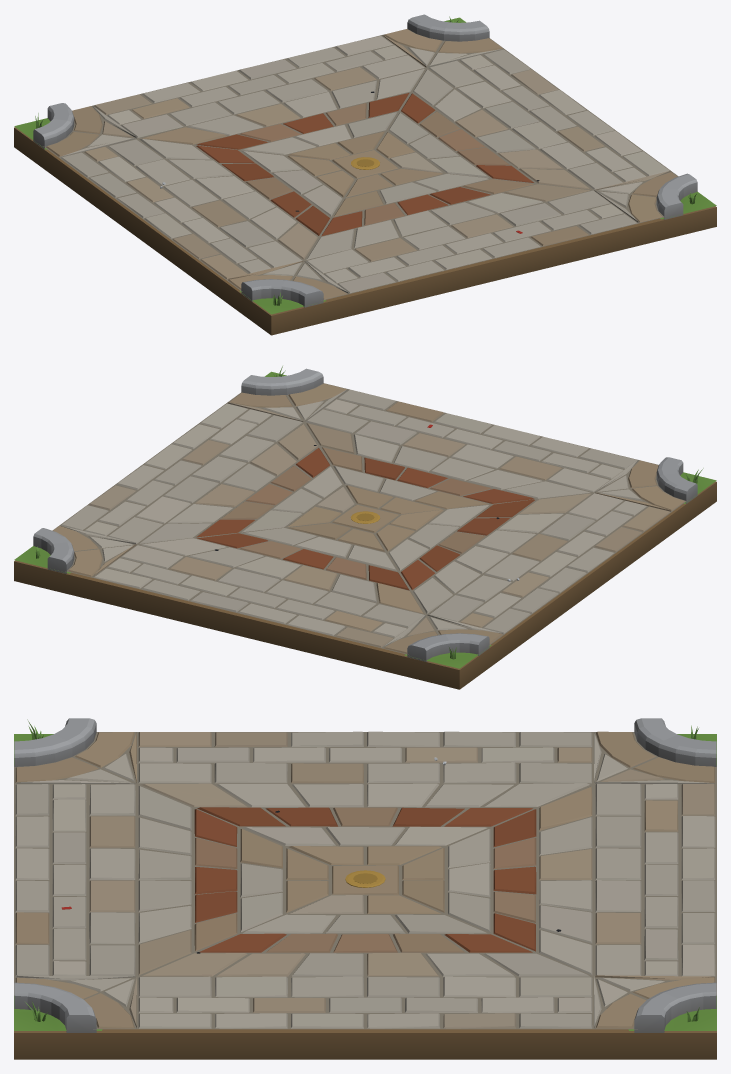
Rendered from road-midway-4way.glb.
The picture shows the model from 3 angles, top to bottom: view 1: azimuth 30°, elevation 25°; view 2: azimuth 150°, elevation 25°; view 3: azimuth 270°, elevation 25°; orthographic projection. The views are drawn at different scales.
Parts seen in each view (by area): view 1: road_midway_4way; view 2: road_midway_4way; view 3: road_midway_4way.
Boxes of the visible parts, x1=… form: road_midway_4way: x1=14, y1=14, x2=716, y2=335; road_midway_4way: x1=14, y1=366, x2=716, y2=689; road_midway_4way: x1=14, y1=718, x2=716, y2=1059.
Size of the model in its own units: 4 by 0.3084 by 4.
